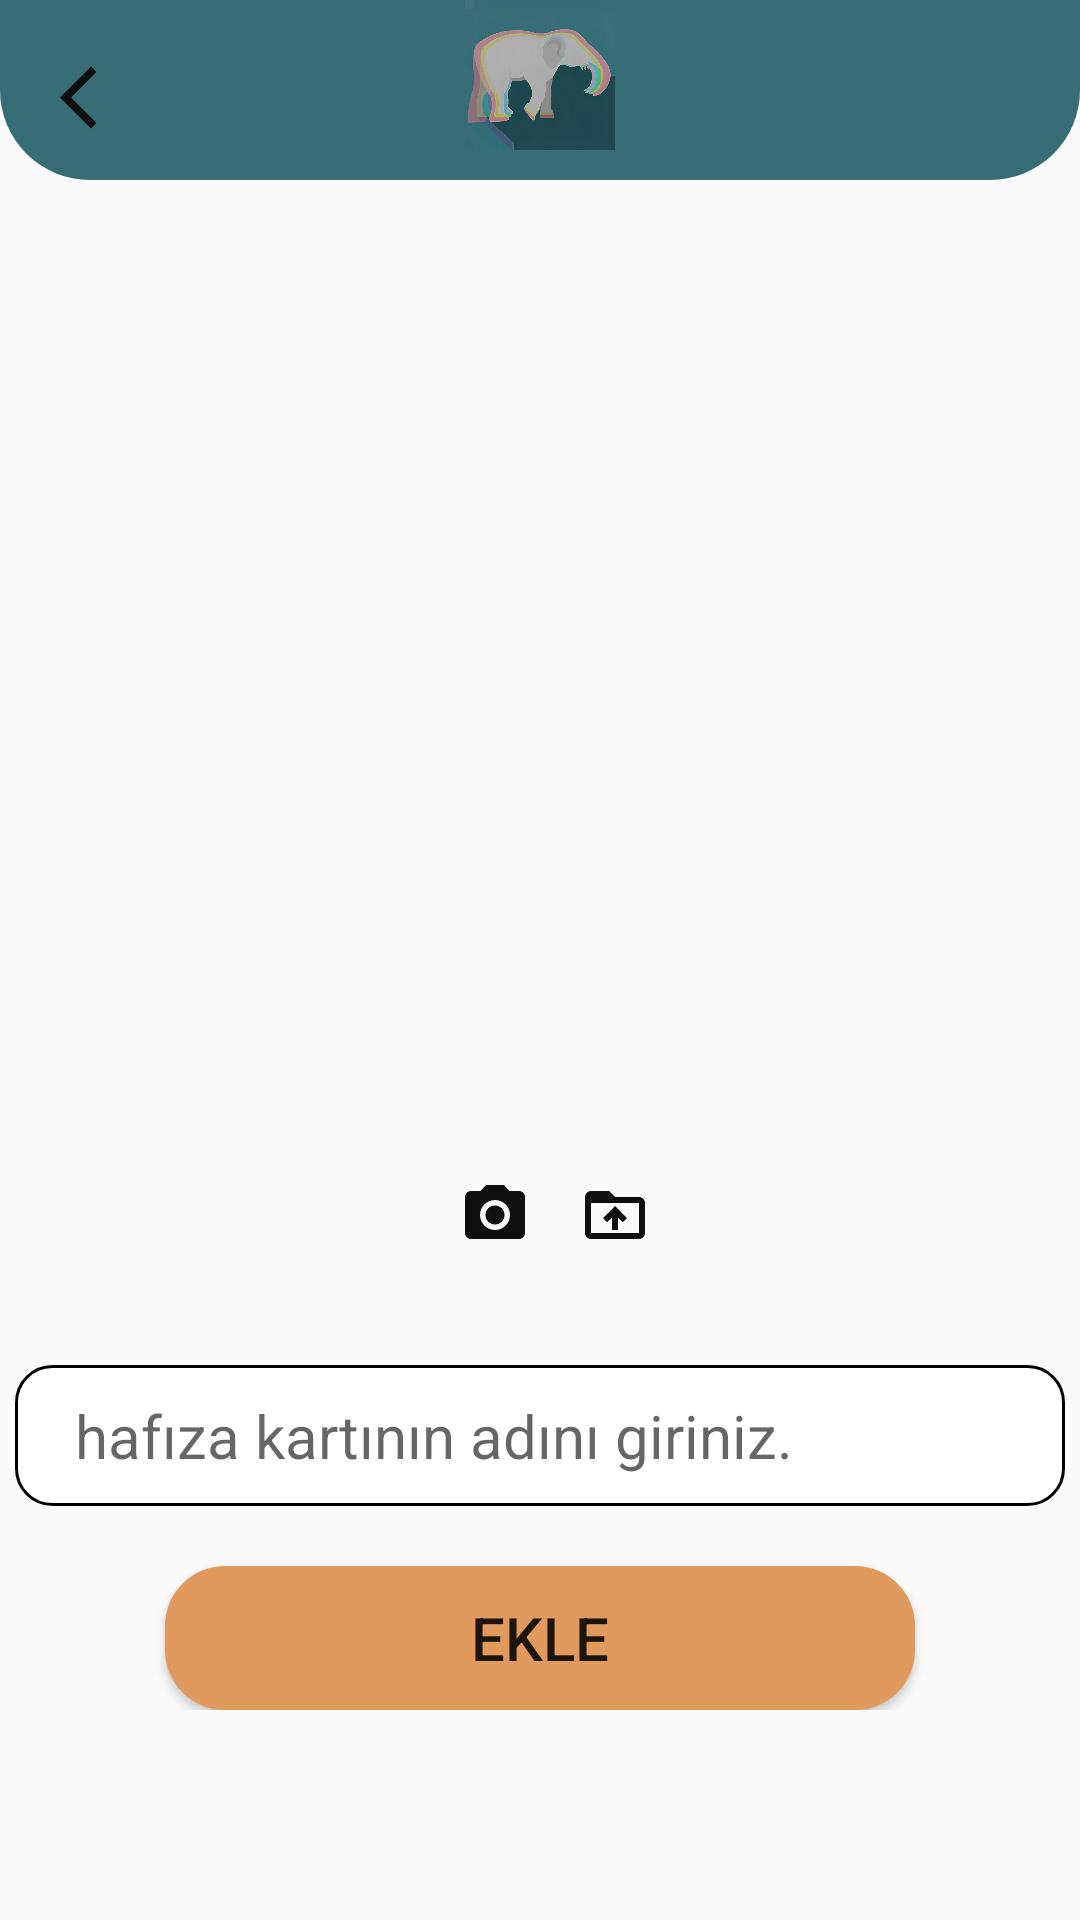

Screen size 1080x1920. Icon name, then its box in pixels as detection(x1, y1, x2, y2):
back: detection(60, 67, 96, 128)
camera: detection(465, 1185, 525, 1239)
folder: detection(585, 1191, 645, 1239)
